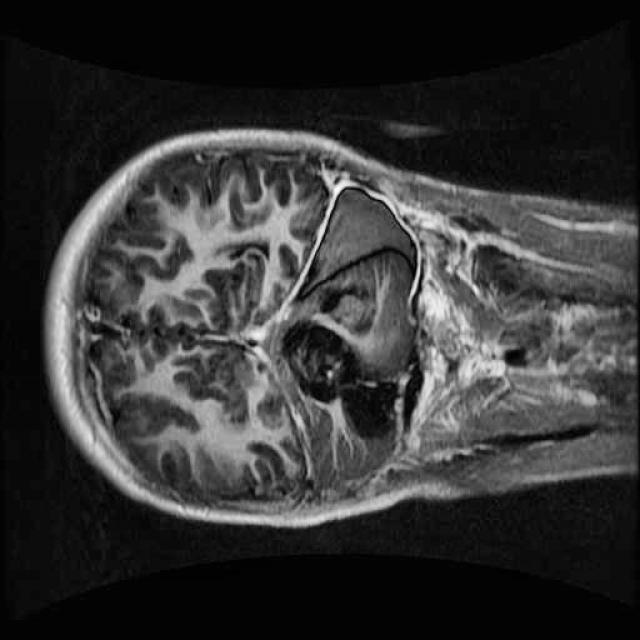Tumor: (274, 305, 412, 446)
